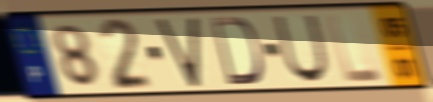2: (97, 16, 154, 92)
8: (49, 22, 103, 88)
D: (208, 15, 265, 87)
L: (325, 11, 386, 85)
U: (271, 13, 331, 85)
V: (153, 14, 202, 90)
